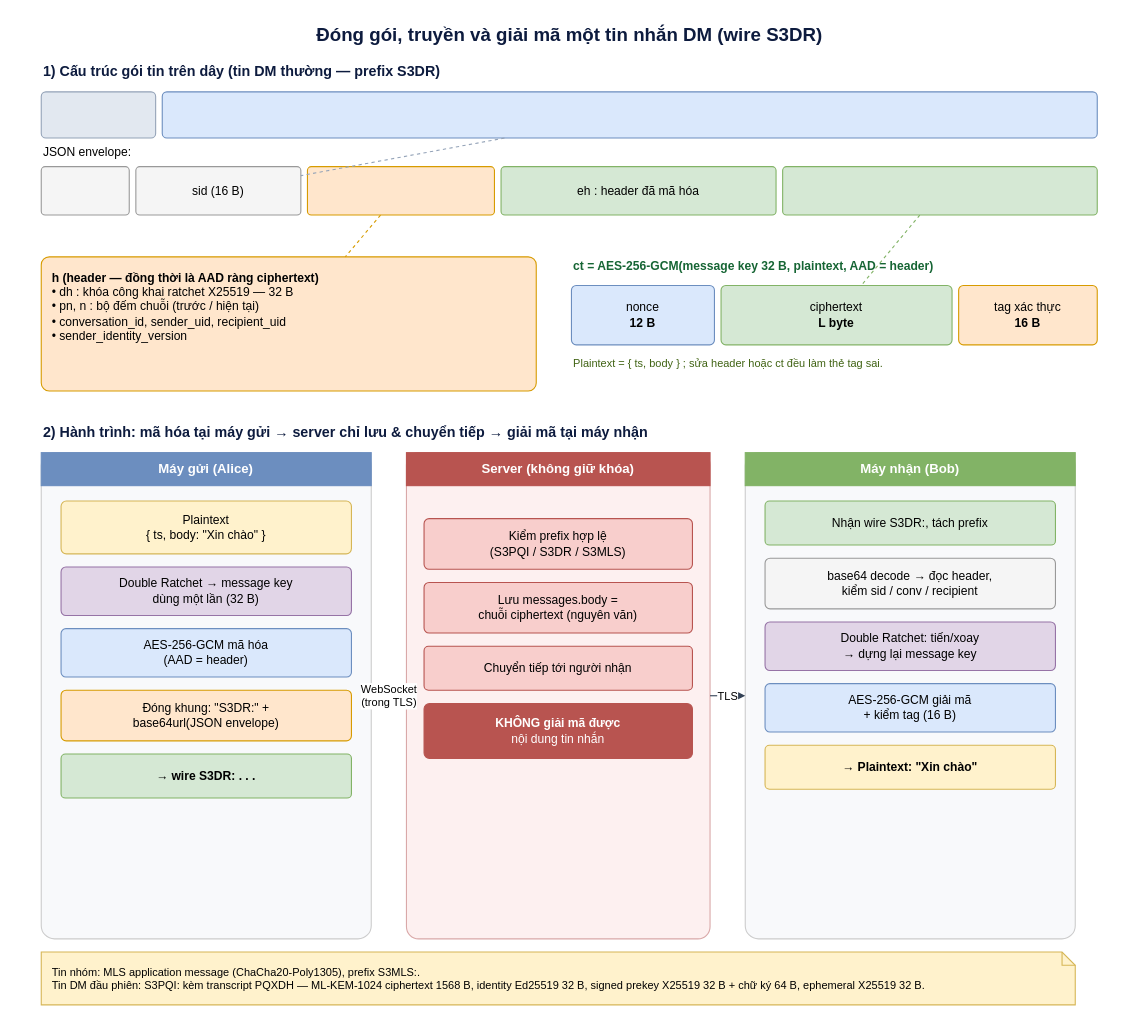
This 1137x1024 diagram has some shape labels left out. Here are the shapes that lost their labels. From the top down, the centre of each, then its label:
[98,114]: S3DR: 5 byte ASCII
[629,114]: base64url( JSON envelope ) — độ dài thay đổi theo nội dung
[84,190]: v = 3
[400,190]: h : header
[939,190]: ct : nội dung đã mã hóa
